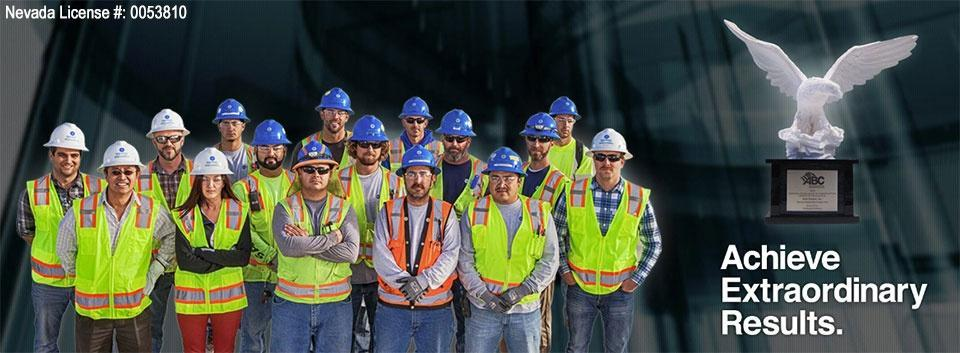helmet: (185, 144, 241, 178), (479, 144, 529, 182), (41, 121, 94, 152), (586, 124, 632, 157), (145, 108, 190, 140), (248, 118, 294, 149), (291, 140, 338, 170), (395, 142, 442, 170), (96, 141, 146, 167), (348, 115, 388, 144), (439, 105, 474, 138), (316, 84, 352, 114), (522, 110, 556, 141), (209, 100, 248, 123), (399, 97, 434, 120), (552, 98, 575, 118)
person: (565, 122, 661, 353), (268, 130, 366, 353), (18, 118, 97, 353), (369, 148, 453, 353), (463, 151, 548, 353), (78, 137, 152, 353), (174, 144, 245, 353)
vest: (471, 195, 548, 310), (82, 201, 154, 315), (571, 182, 640, 296), (178, 197, 244, 313), (282, 188, 342, 297), (385, 207, 450, 306), (29, 184, 82, 276)
